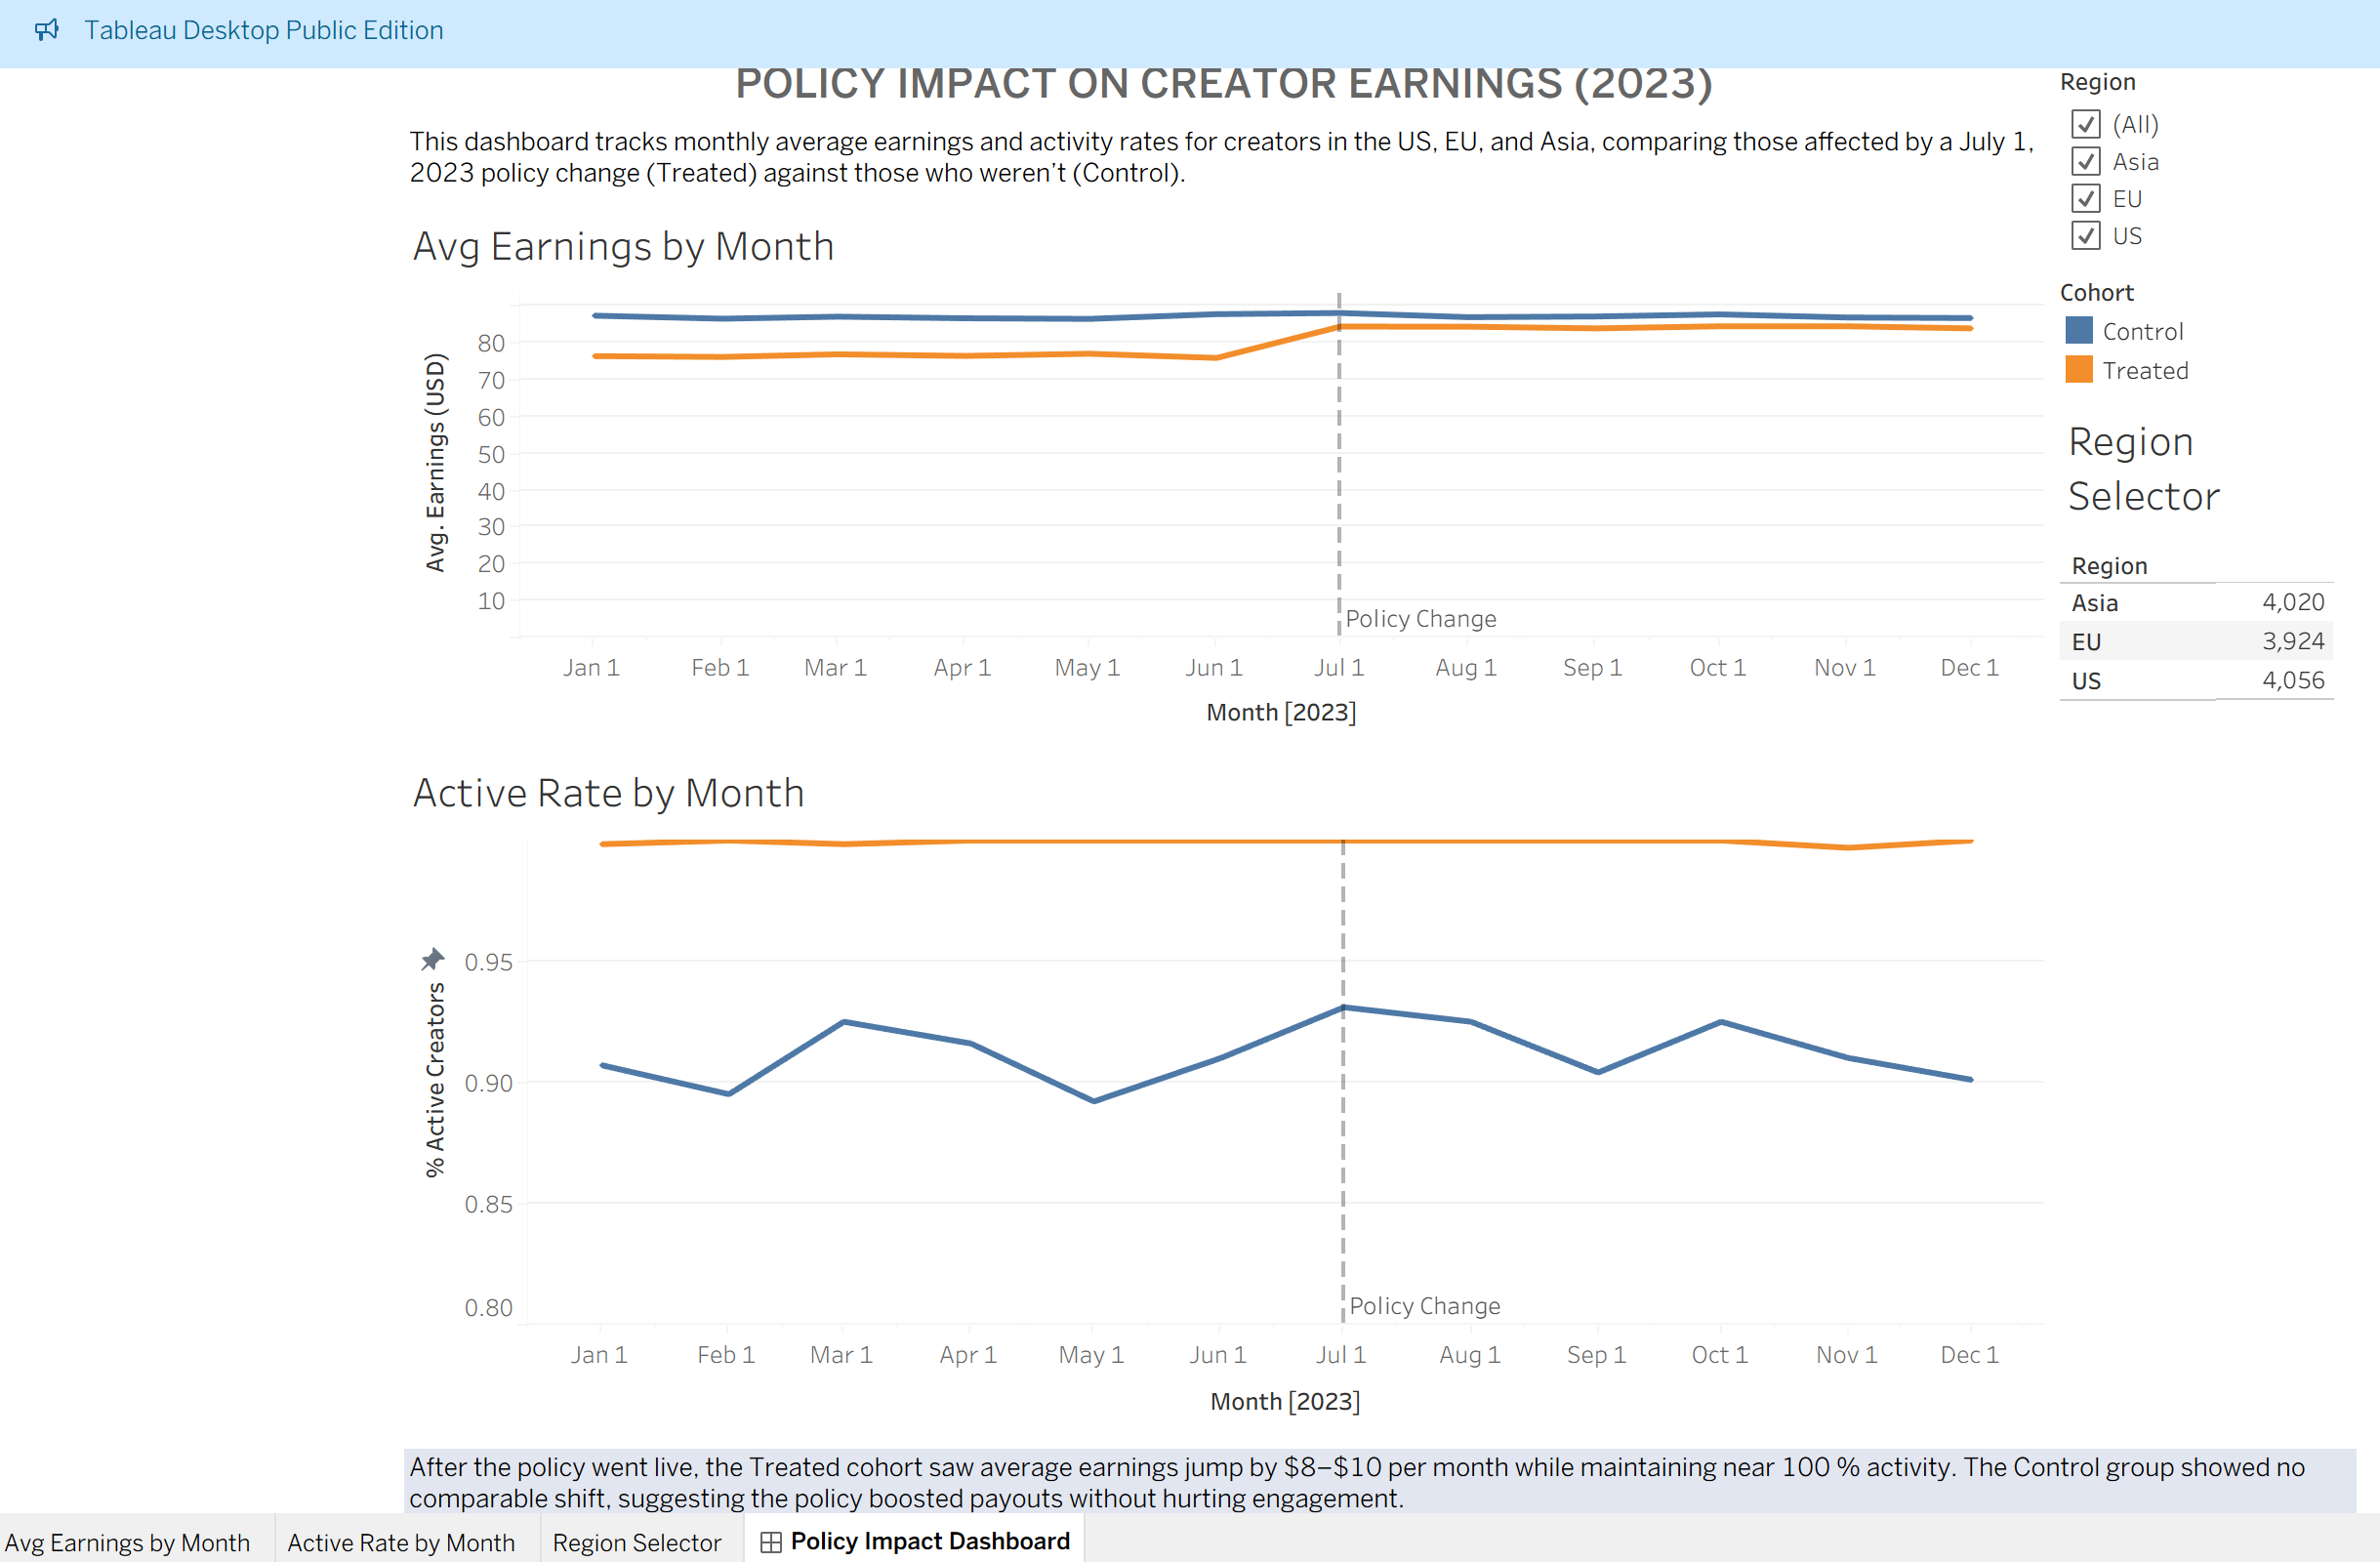

The dashboard page shown, as its layout file describes it:
{"tool":"tableau","page":{"name":"Policy Impact Dashboard","canvas":[1000,800],"ordinal":0},"visuals":[{"type":"text","box":[8,8,824,30.2]},{"type":"filter","title":"Avg Earnings by Month","param":"[federated.1627lmg0a1fsde1gllwhy0zpxaru].[none:region:nk]","box":[832,8,160,108]},{"type":"text","box":[8,38.2,824,46.8]},{"type":"worksheet","title":"Avg Earnings by Month","mark":"Automatic","rows":["earnings"],"cols":["month"],"box":[8,85,824,292.5]},{"type":"legend","title":"Avg Earnings by Month","param":"[federated.1627lmg0a1fsde1gllwhy0zpxaru].[none:Calculation_3612731356251254784:n","box":[832,116,160,66]},{"type":"worksheet","title":"Region Selector","mark":"Automatic","rows":["region"],"box":[832,182,160,160]},{"type":"worksheet","title":"Active Rate by Month","mark":"Automatic","rows":["Calculation_3612731356252647425"],"cols":["month"],"box":[8,377.5,824,369.5]},{"type":"text","box":[8,747,984,45]}]}

Visuals, with their boxes in screenshot pixels (x1, y1, x2, y2):
text: detection(425, 0, 2070, 39)
"Avg Earnings by Month" filter: detection(2070, 0, 2379, 194)
text: detection(425, 39, 2070, 133)
"Avg Earnings by Month" worksheet: detection(425, 133, 2070, 717)
"Avg Earnings by Month" legend: detection(2070, 194, 2379, 326)
"Region Selector" worksheet: detection(2070, 326, 2379, 645)
"Active Rate by Month" worksheet: detection(425, 717, 2070, 1454)
text: detection(425, 1454, 2379, 1543)
